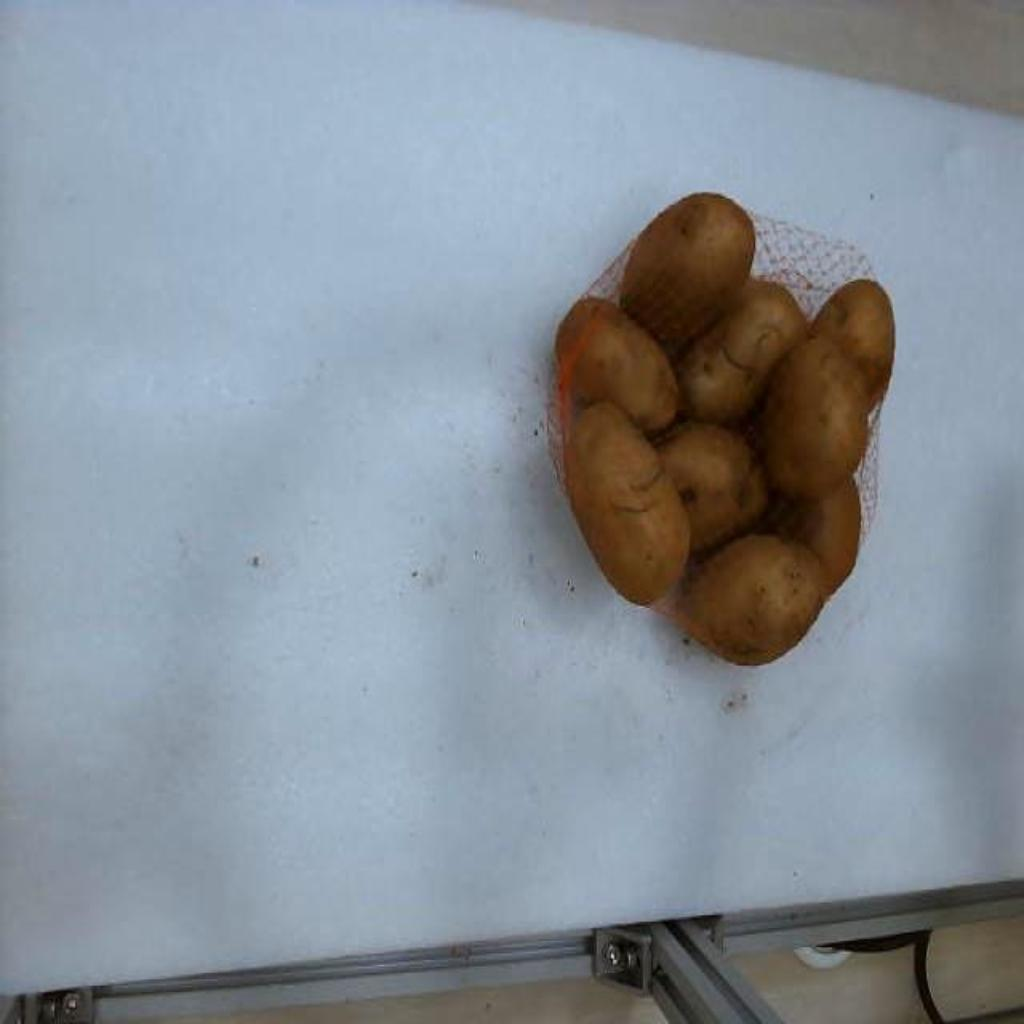potato: (564, 403, 690, 604), (620, 195, 754, 347), (670, 533, 824, 664), (754, 336, 870, 499), (680, 277, 806, 423), (660, 421, 768, 551), (570, 307, 676, 431), (812, 280, 894, 404), (776, 480, 860, 593)
